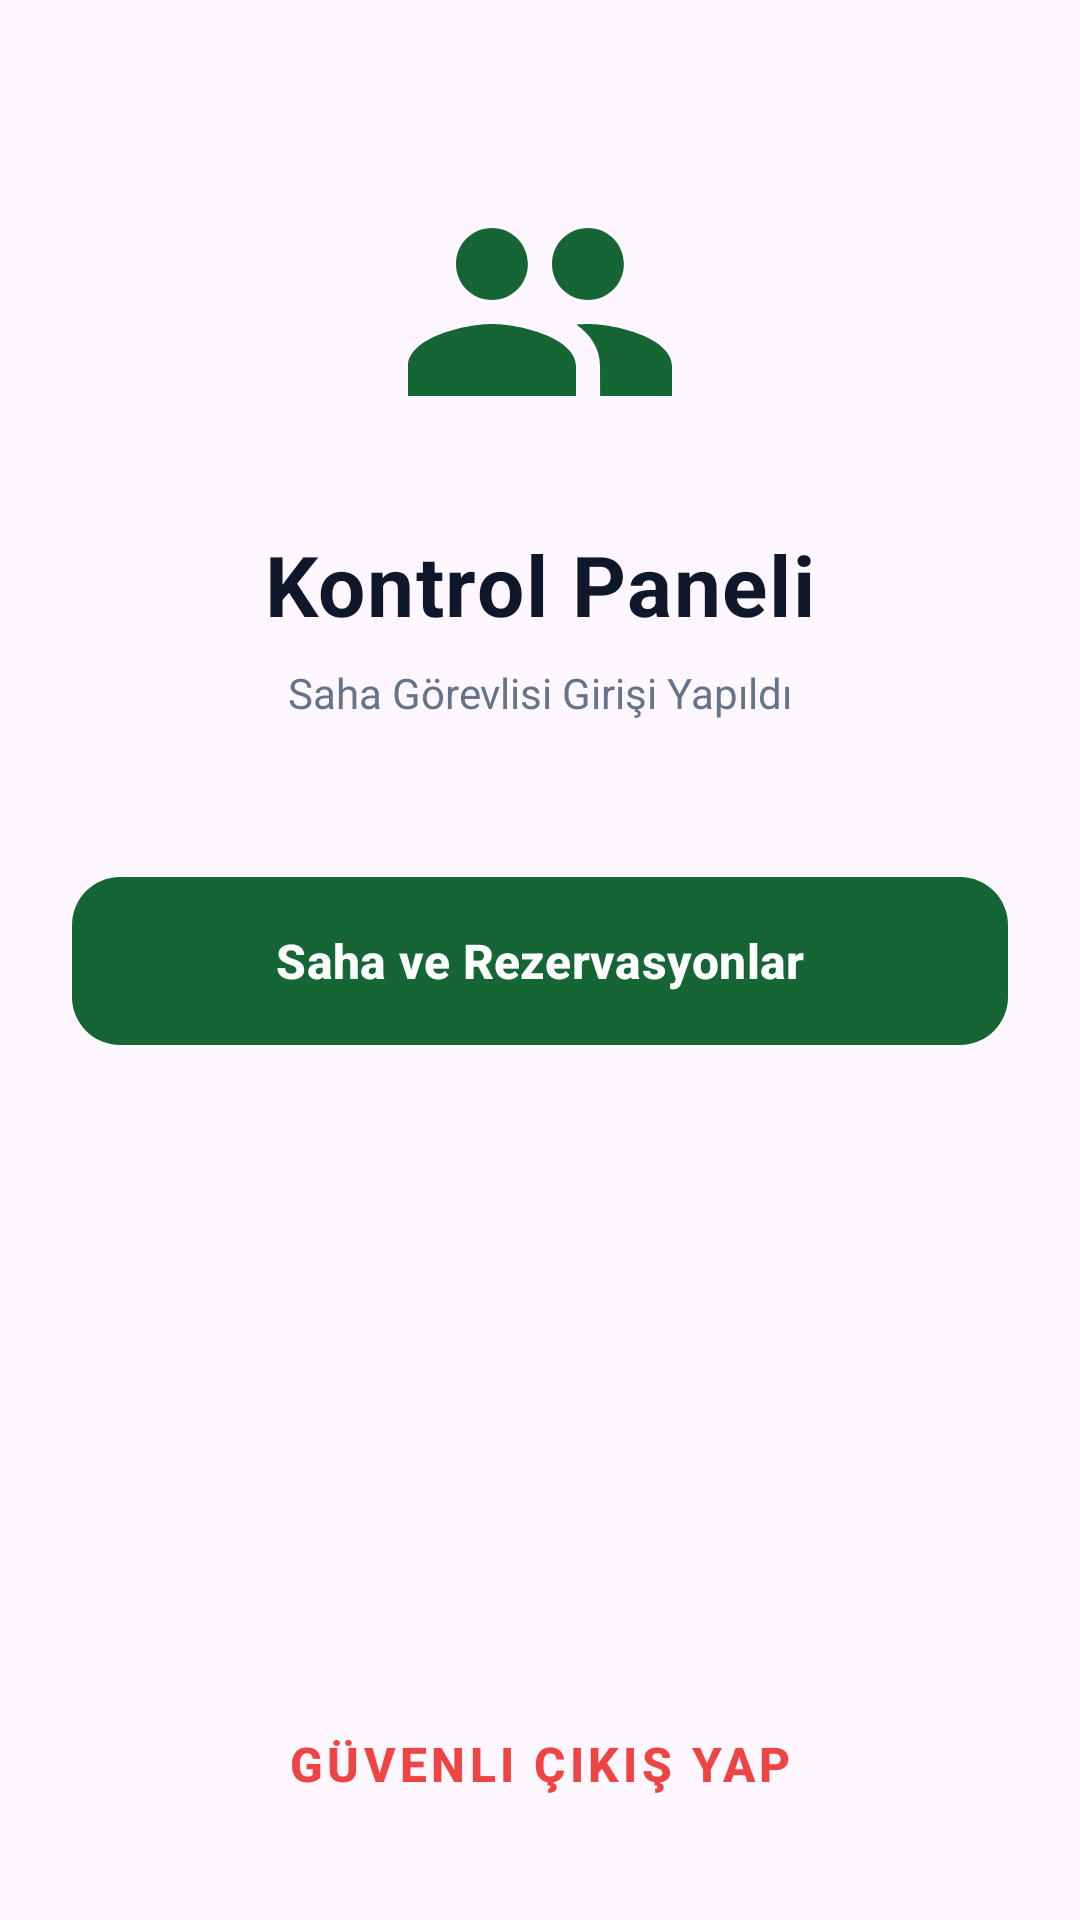

Locate icon controls on the screen. Image size 1080 × 1920, boxes as (x1, y1, x2, y2).
team: (408, 228, 672, 396)
